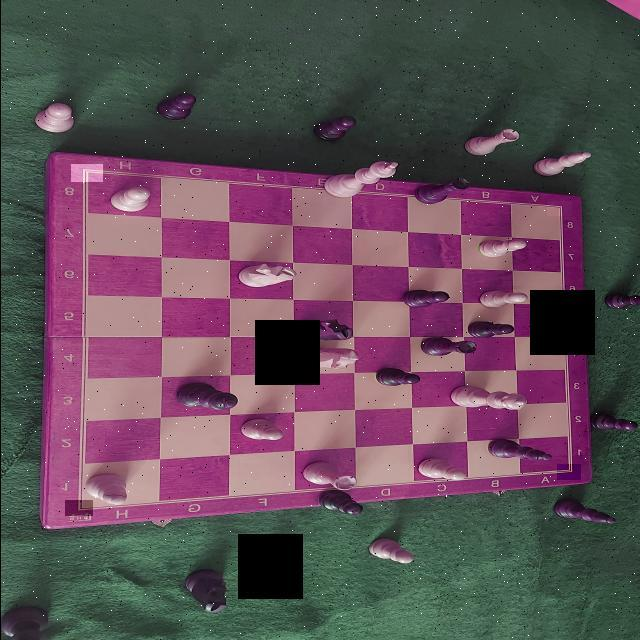chess-table-corners: (70, 164, 102, 182), (64, 500, 92, 516), (556, 464, 580, 480), (546, 201, 571, 216)
